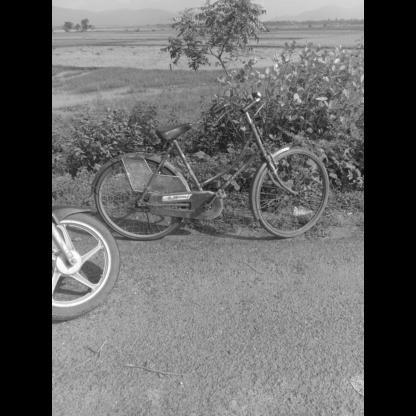Bicycle: (59, 83, 349, 261)
